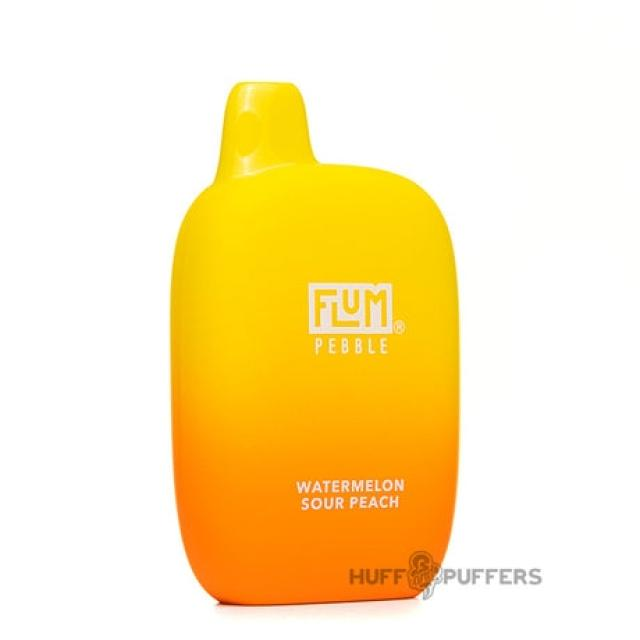Vapes: (168, 79, 460, 607)
